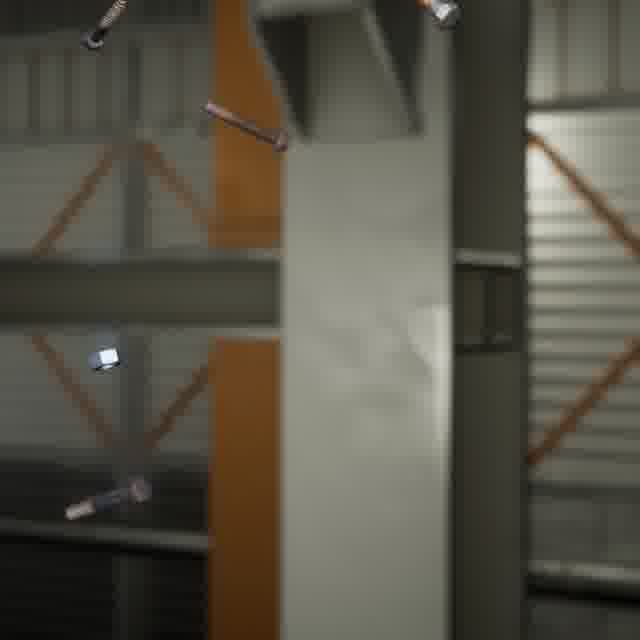bolt: (197, 94, 294, 158), (61, 470, 156, 524), (77, 0, 131, 55), (408, 0, 463, 35)
nut: (83, 344, 126, 375)
